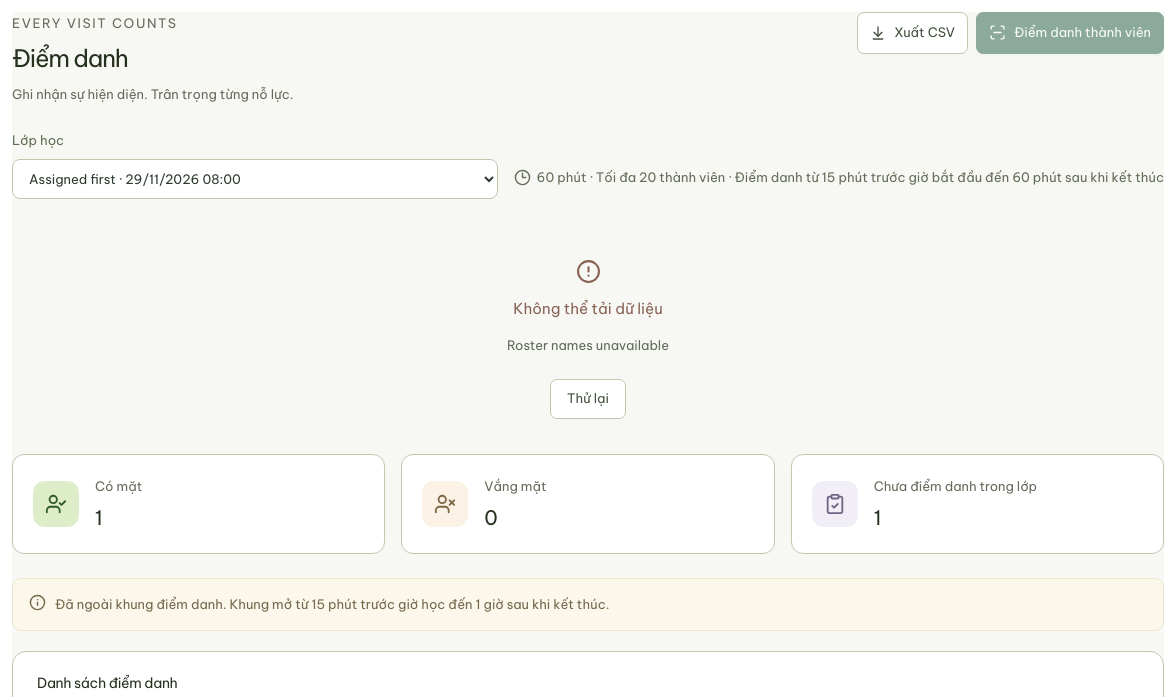
Scenario: Attendance student names stay within each role's API access › reports a Coach roster load error and can retry without opening /users
The image size is (1176, 697).
Expected: the text "Roster names unavailable" is shown, x1=507 y1=334 x2=669 y2=356
Click the button "Thử lại".
click(588, 399)  # box x1=550 y1=379 x2=626 y2=419
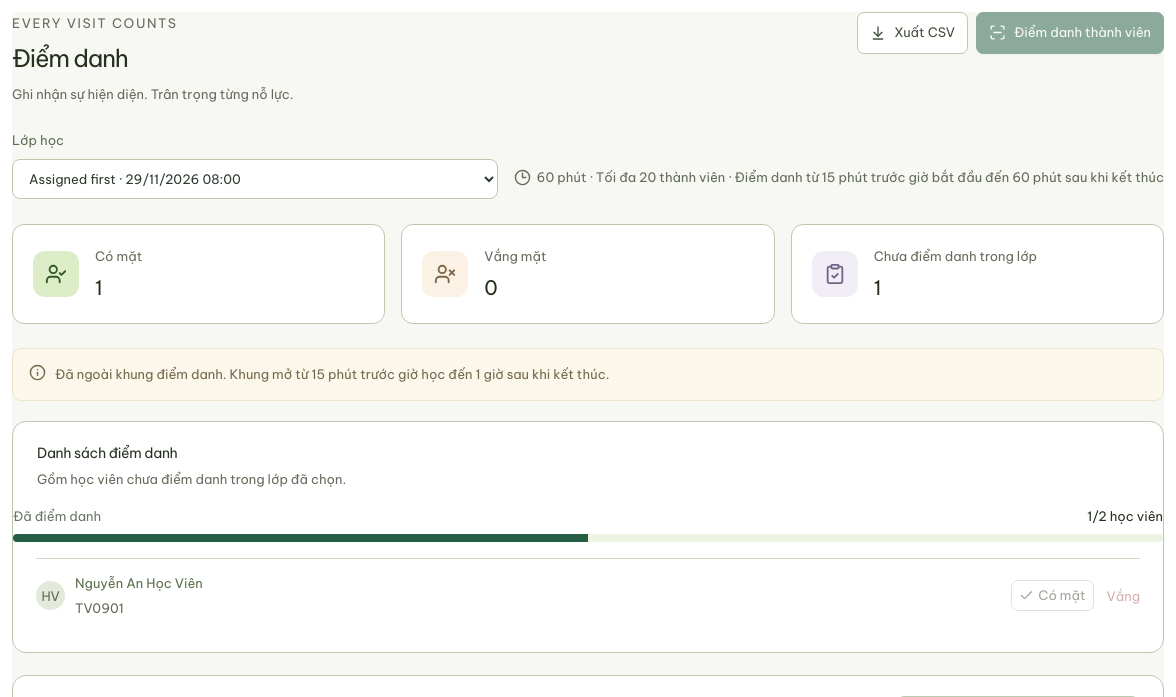
Expected: the text "Nguyễn An Học Viên" is shown, x1=75 y1=576 x2=203 y2=592
